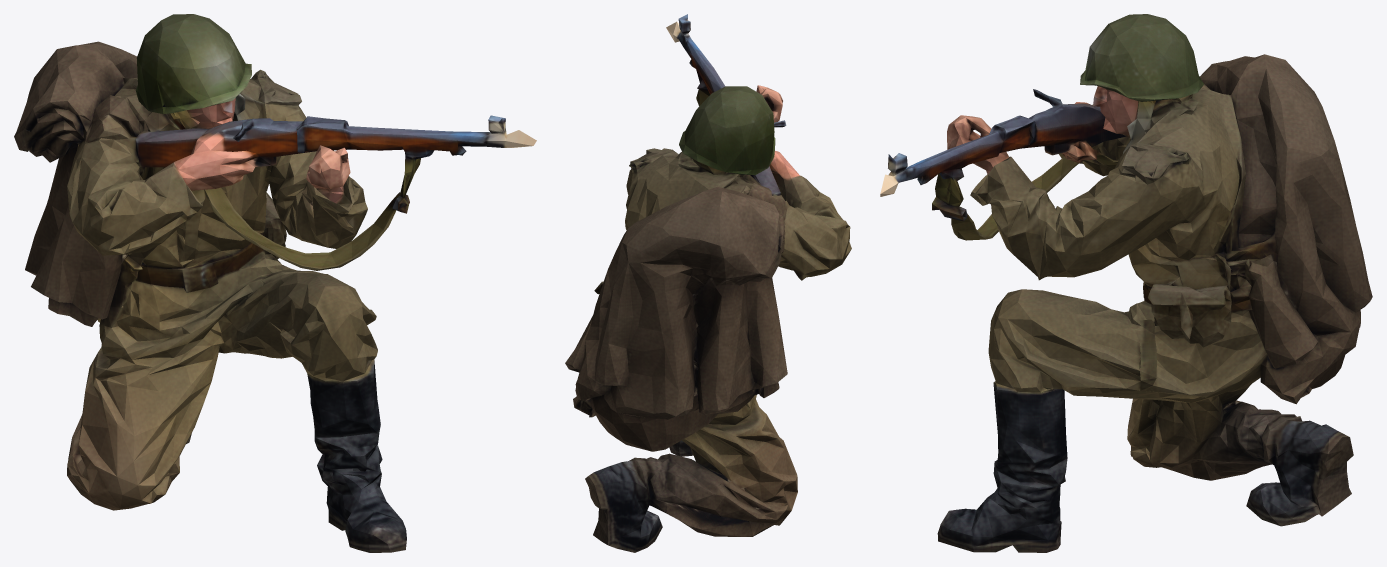
File: ally_su_kneel.glb
3 renders of one model, left to right at view 1: azimuth 30°, elevation 25°; view 2: azimuth 150°, elevation 25°; view 3: azimuth 270°, elevation 25°, orthographic. The views are drawn at different scales.
Visible parts, largest first — view 1: geometry_0; view 2: geometry_0; view 3: geometry_0.
Part boxes in pixels (x1,y1,x2,y2): geometry_0: (14,14,536,552); geometry_0: (565,14,851,552); geometry_0: (880,14,1372,552).
Bounding box in the file's own units: 0.7113 × 1 × 0.936.
1 material, 1 textured.
